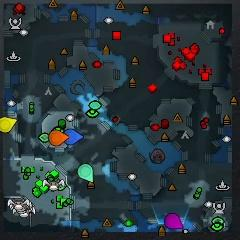p1: (63, 129, 84, 145)
p2: (78, 163, 94, 183)
p3: (164, 212, 183, 229)
p4: (0, 116, 17, 133)
p5: (48, 131, 69, 146)
